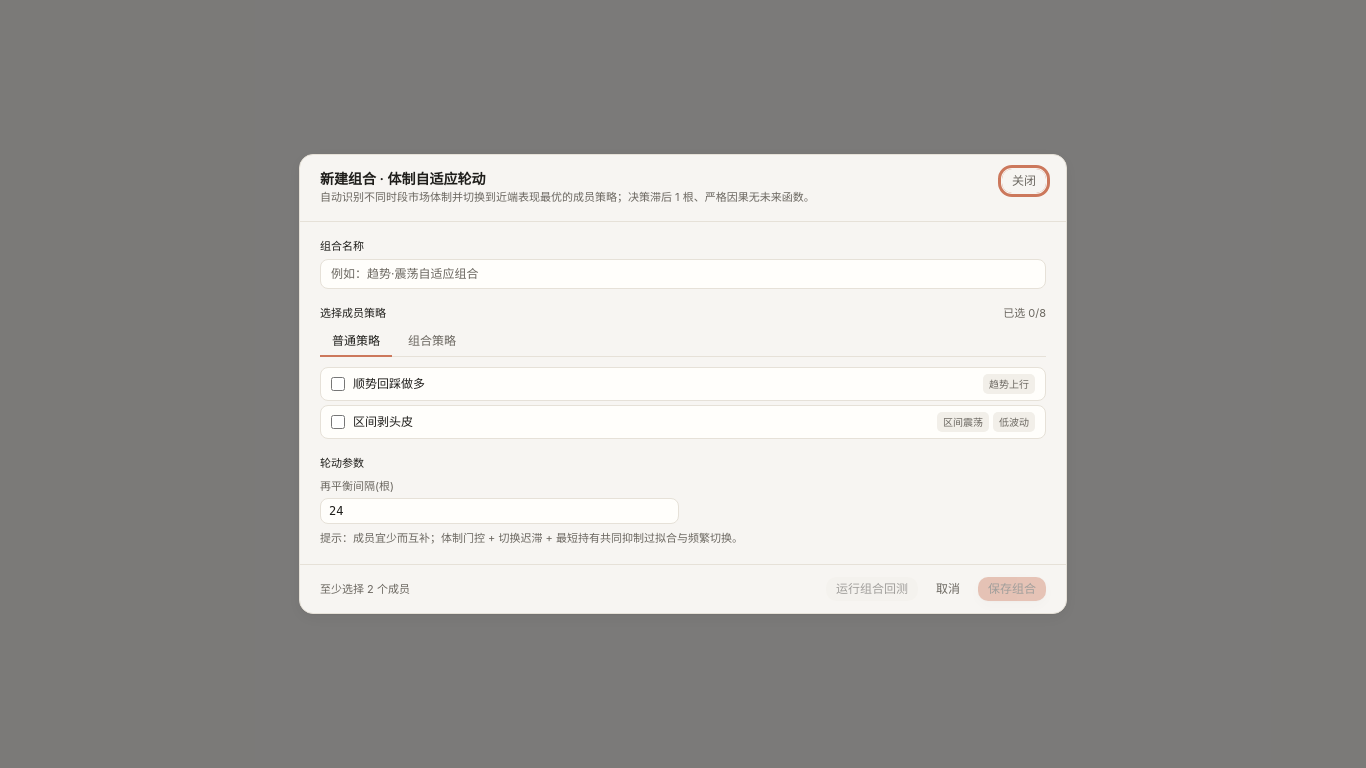
ComboEditorModal › shows an inline error state when the preview fails
Expected: the text "顺势回踩做多" is shown, [353, 376, 425, 391]
Click the checkbox labelled "顺势回踩做多 趋势上行": (338, 384) [331, 377, 345, 391]
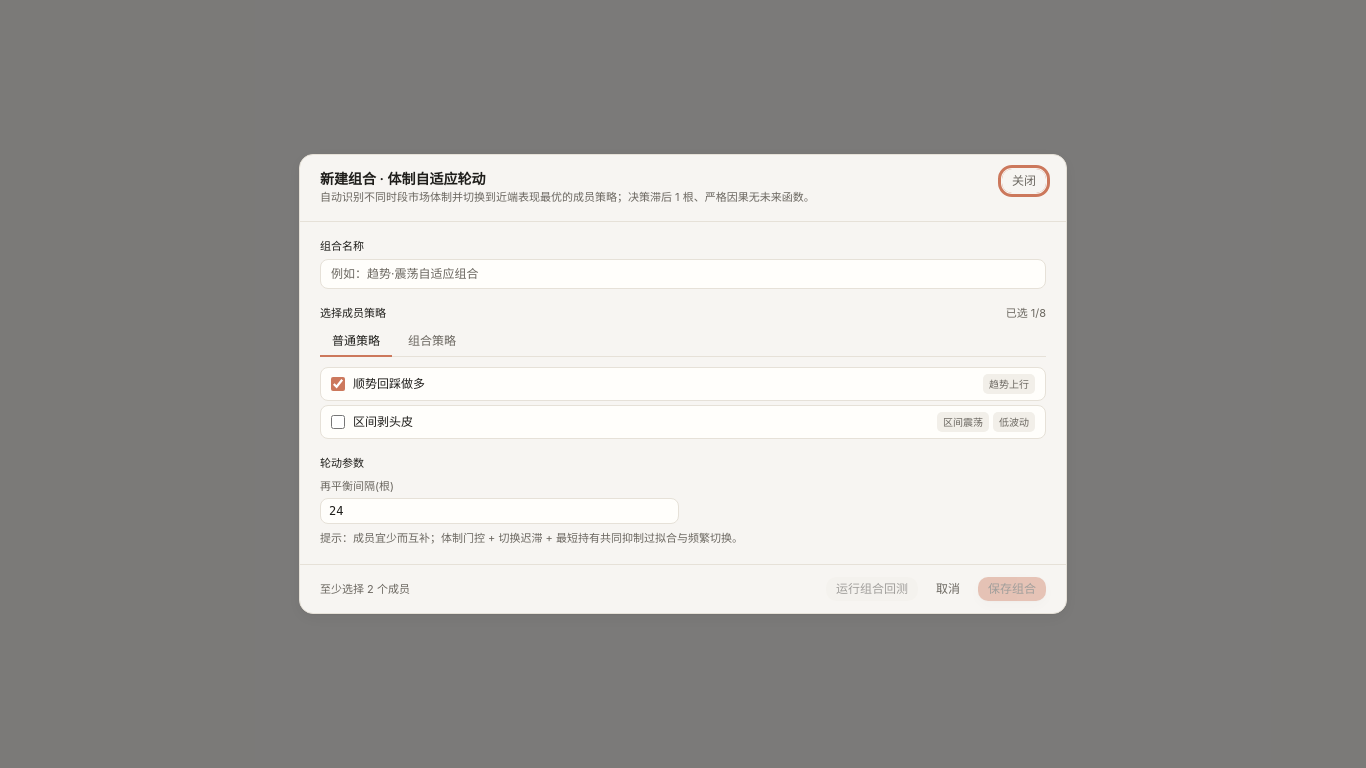
Click the checkbox labelled "区间剥头皮 区间震荡 低波动": (338, 422) [331, 415, 345, 429]
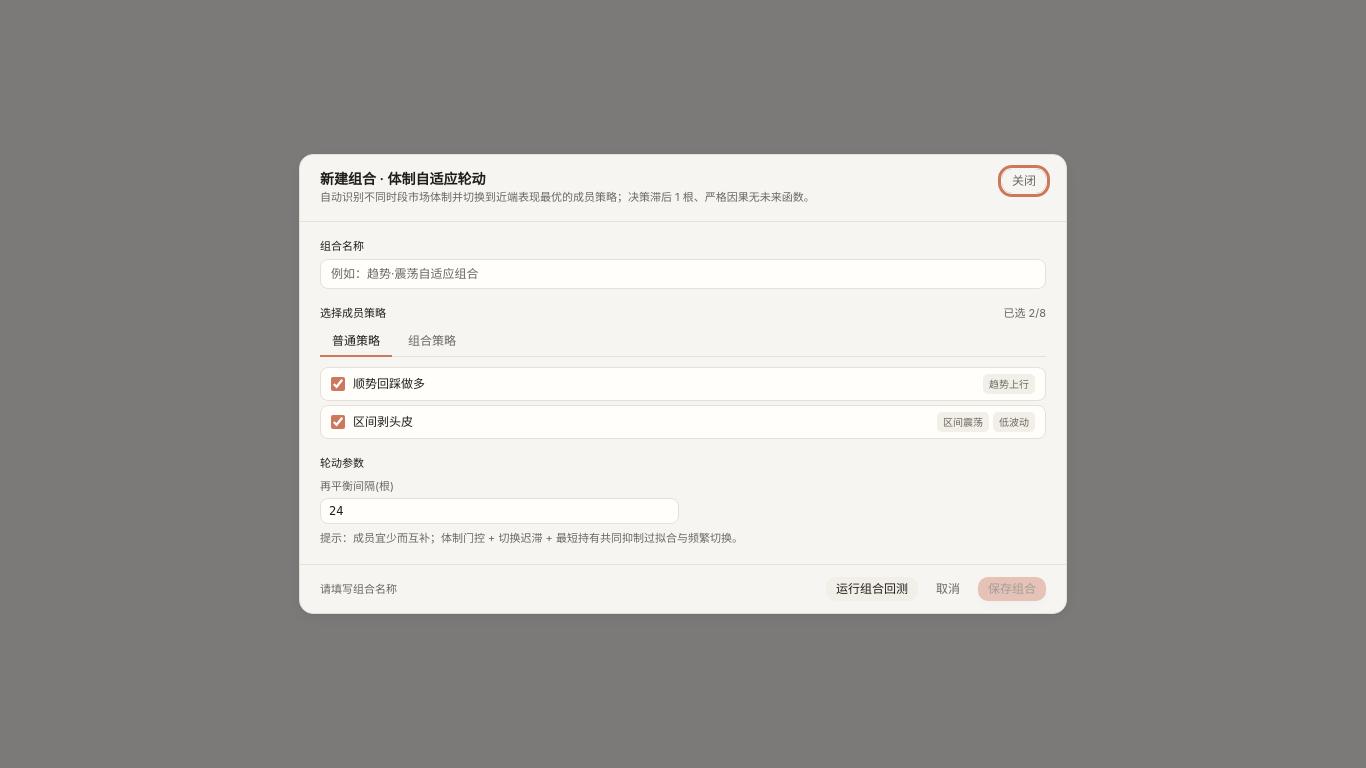
Click the button "运行组合回测": (872, 589) [826, 577, 918, 601]
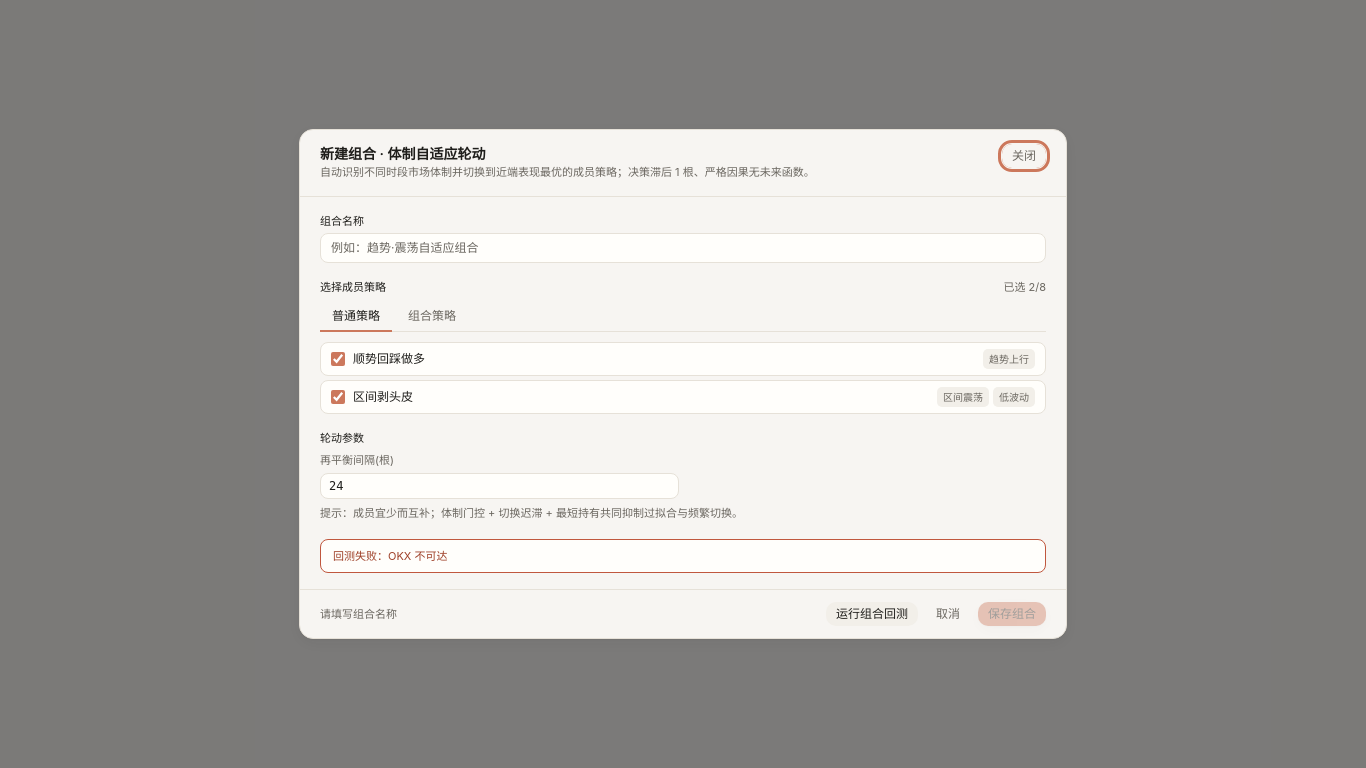
Expected: the text "回测失败：OKX 不可达" is shown, [320, 539, 1046, 573]
